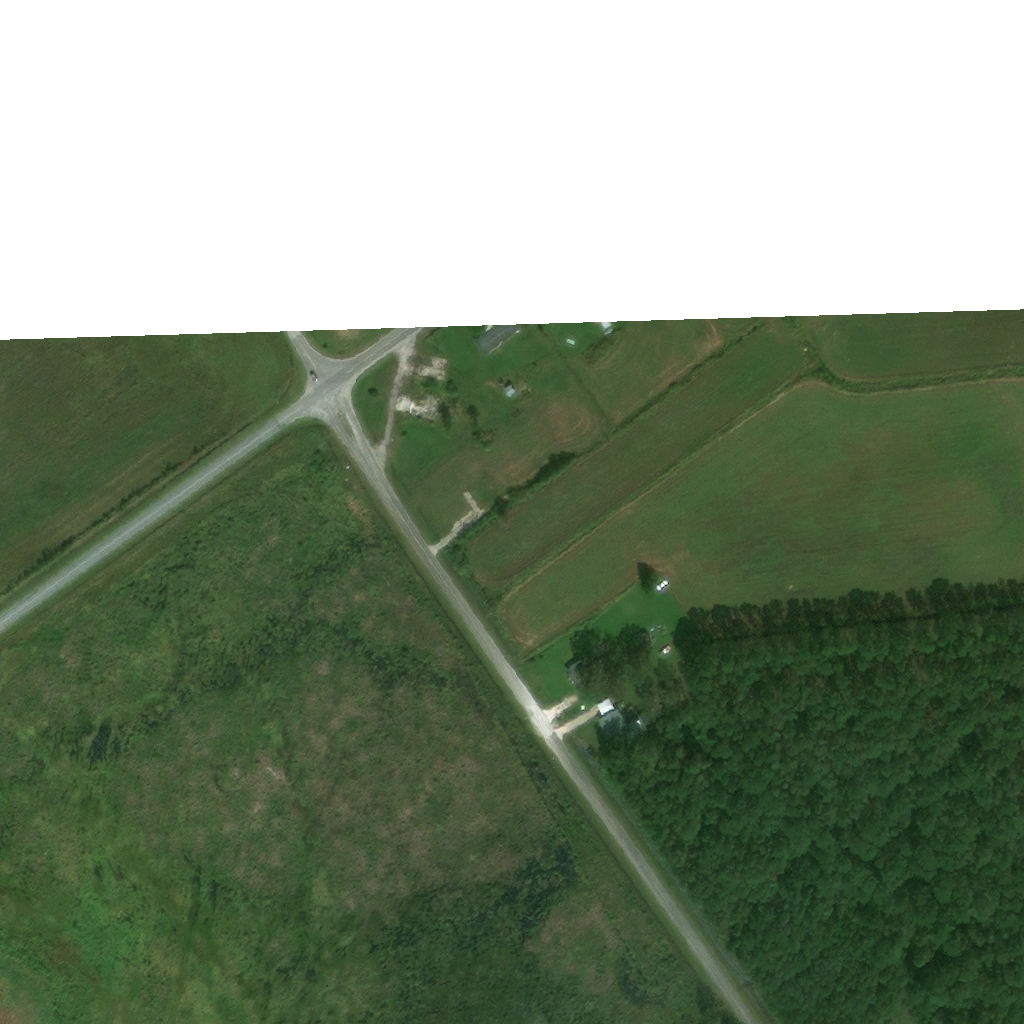no_damage: (597, 698, 647, 745), (476, 328, 528, 355), (566, 660, 597, 692), (637, 633, 652, 648), (506, 384, 519, 397)
